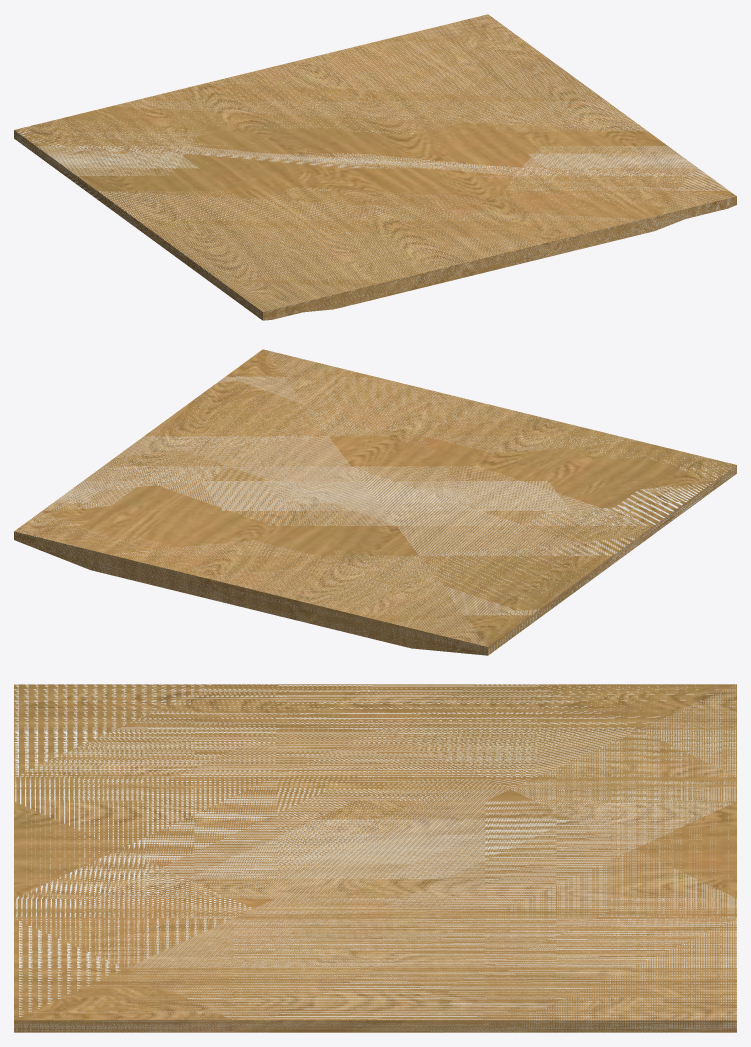
File: original-8.obj
3 views of the same model, one above another, from view 1: azimuth 30°, elevation 25°; view 2: azimuth 150°, elevation 25°; view 3: azimuth 270°, elevation 25° (orthographic). The views are drawn at different scales.
Visible parts, largest first — view 1: Drawer_Bottom1/Drawer_Bottom/mesh6/mesh6-geometry#mesh6-geometry; view 2: Drawer_Bottom1/Drawer_Bottom/mesh6/mesh6-geometry#mesh6-geometry; view 3: Drawer_Bottom1/Drawer_Bottom/mesh6/mesh6-geometry#mesh6-geometry.
Boxes of the visible parts, x1=… form: Drawer_Bottom1/Drawer_Bottom/mesh6/mesh6-geometry#mesh6-geometry: x1=14, y1=14, x2=736, y2=320; Drawer_Bottom1/Drawer_Bottom/mesh6/mesh6-geometry#mesh6-geometry: x1=14, y1=349, x2=736, y2=655; Drawer_Bottom1/Drawer_Bottom/mesh6/mesh6-geometry#mesh6-geometry: x1=14, y1=684, x2=736, y2=1032.
Bounding box in the file's own units: 0.4962 × 0.02 × 0.4511.
